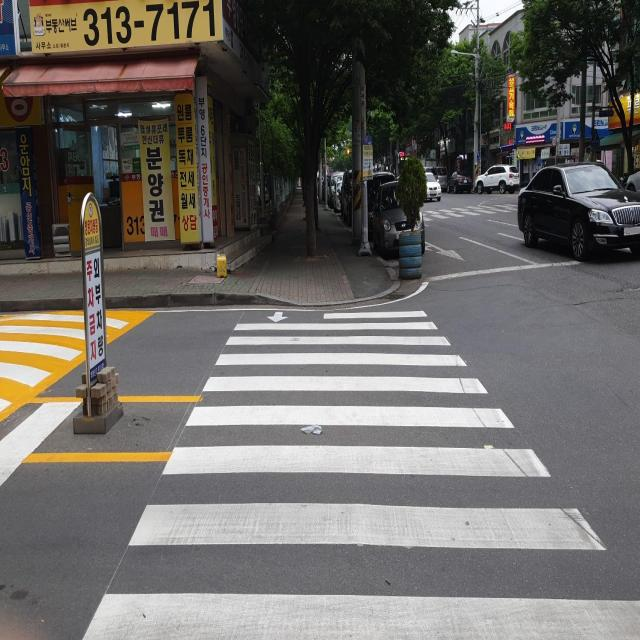횡단보도: (79, 310, 640, 640), (423, 202, 518, 225)
